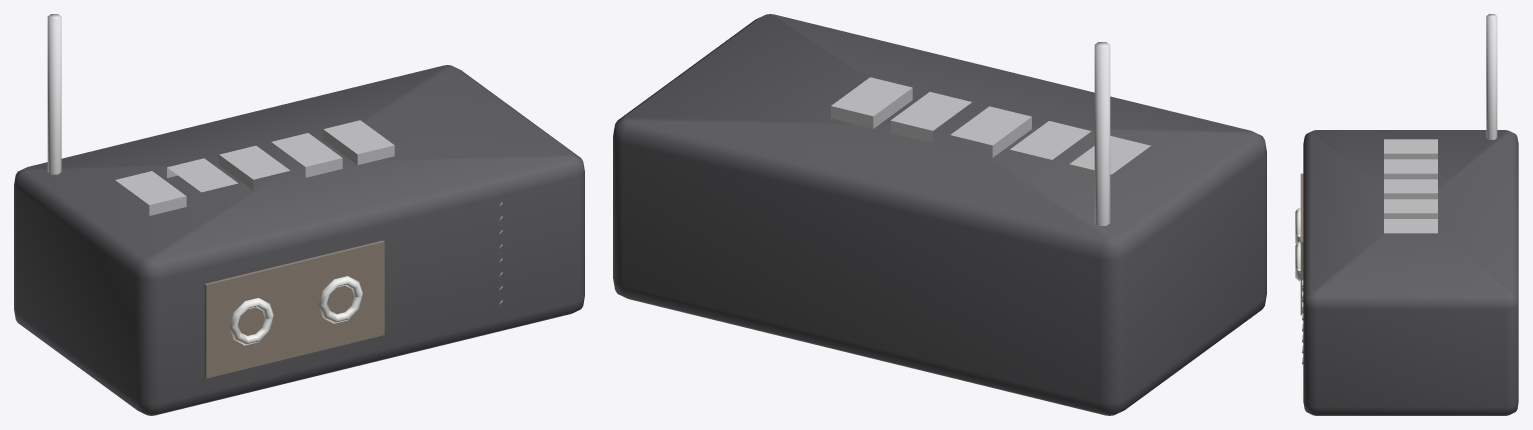
The model's file is cassette_player.glb.
3 views of the same model, side by side, from view 1: azimuth 30°, elevation 25°; view 2: azimuth 150°, elevation 25°; view 3: azimuth 270°, elevation 25° (orthographic). The views are drawn at different scales.
Visible parts, largest first — view 1: cassette_player; view 2: cassette_player; view 3: cassette_player.
Boxes of the visible parts, x1=… form: cassette_player: x1=14, y1=14, x2=584, y2=415; cassette_player: x1=613, y1=14, x2=1266, y2=415; cassette_player: x1=1295, y1=14, x2=1518, y2=415.
Size of the model in its own units: 0.3 by 0.2 by 0.166.
